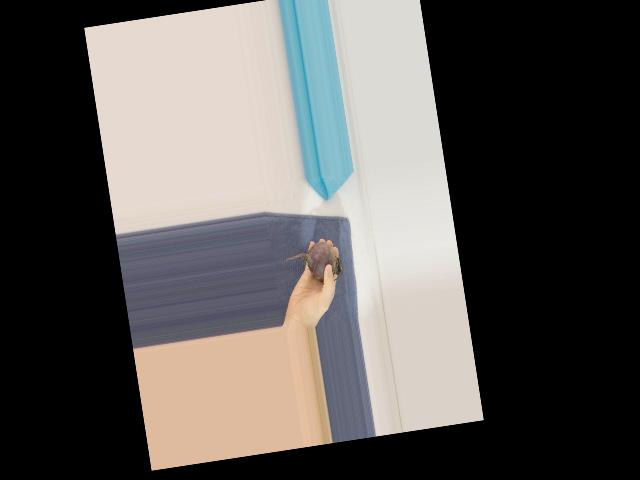beet: (281, 239, 344, 288)
